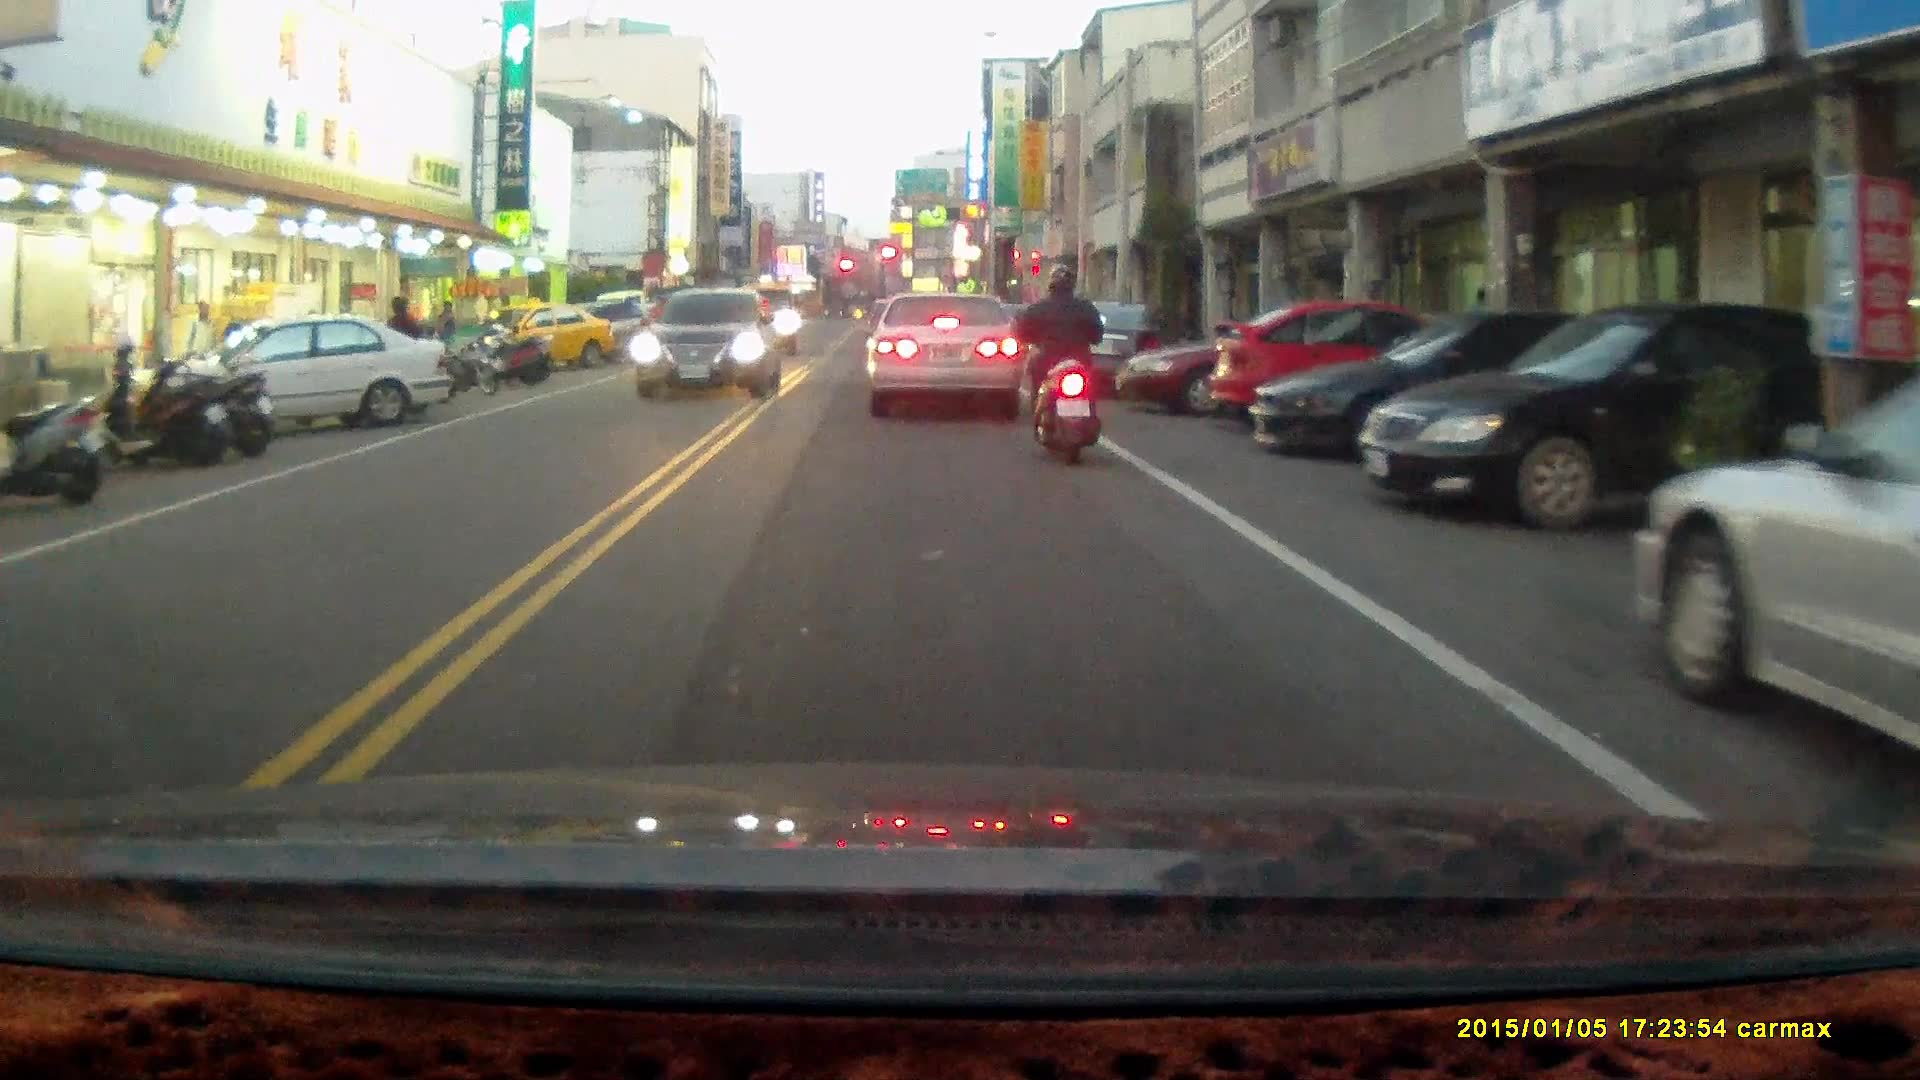pedestrian: (383, 293, 418, 390), (184, 298, 218, 395)
rider: (1011, 261, 1103, 468)
vehicle: (1627, 333, 1920, 814), (1357, 300, 1831, 532), (1251, 309, 1654, 468), (160, 309, 447, 440), (1204, 299, 1475, 436), (1116, 305, 1432, 417), (866, 293, 1026, 426), (632, 285, 781, 404), (499, 306, 621, 381)
